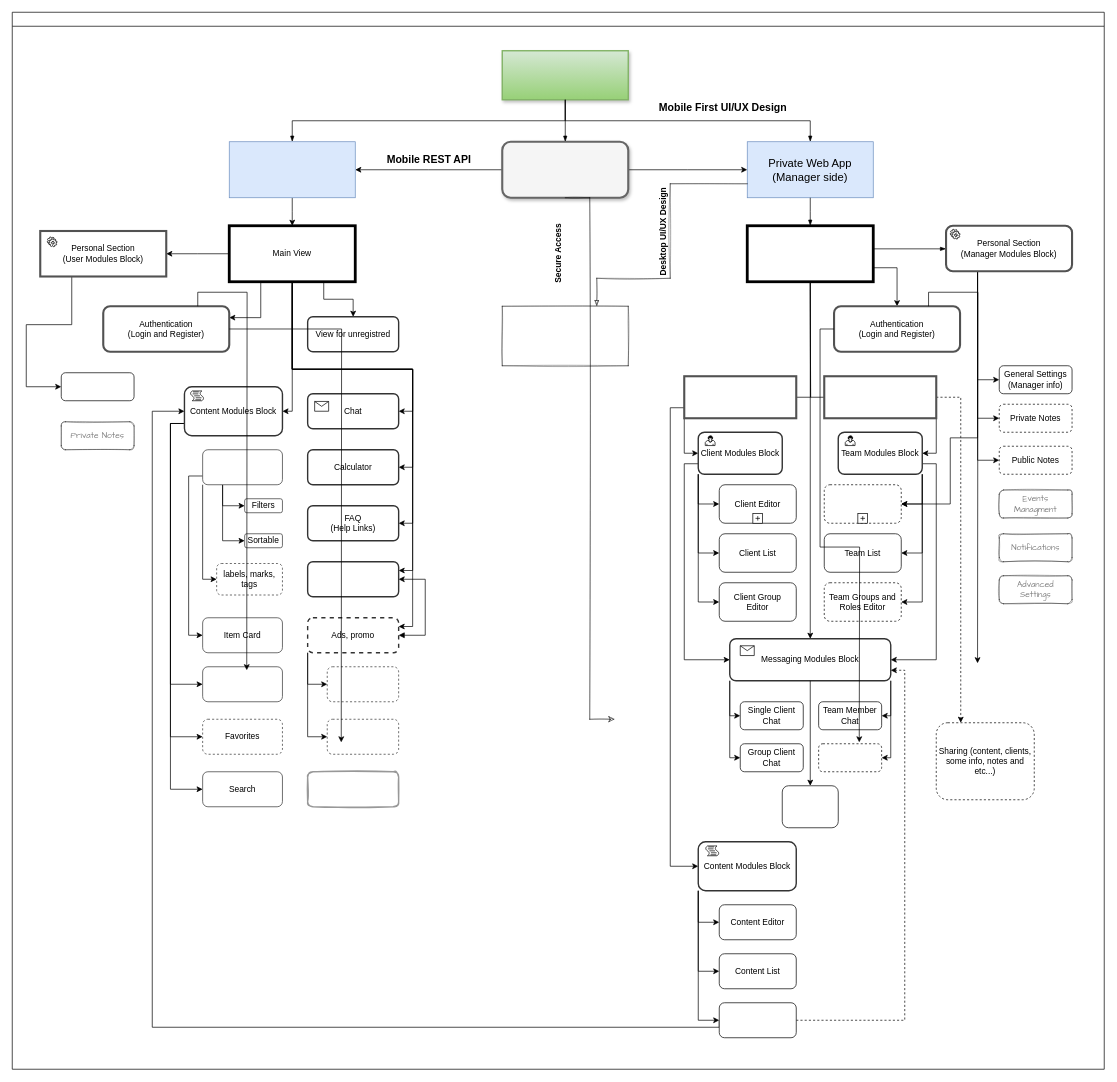
Image size: 1117x1082. Some labels were removed from this diagram. The centre of each missing label's shape, as x and y in pixels:
"Admin Panel (CMS)" goes at [565,336].
"Backend (Server side)" goes at [565,170].
"Banners, popups, push" goes at [363,736].
"Chat List (sortable)" goes at [810,806].
"Clientwork Section (Modules)" goes at [740,397].
"Content Board" goes at [242,467].
"Content Transmitter" goes at [757,1020].
"Feedback (Support Request)" goes at [353,789].
"Full view (Single Content)" goes at [242,684].
"General Settings (User info)" goes at [97,386].
"Group Team Chat (with Roles)" goes at [850,757].
"Inline to Board" goes at [363,684].
"M&M Project" goes at [565,76].
"Main Page" goes at [810,253].
"Member Editor" goes at [862,503].
"Mobile App (Client Side)" goes at [292,169].
"Push-notifications" goes at [353,579].
"Teamwork Section (Modules)" goes at [880,397].
